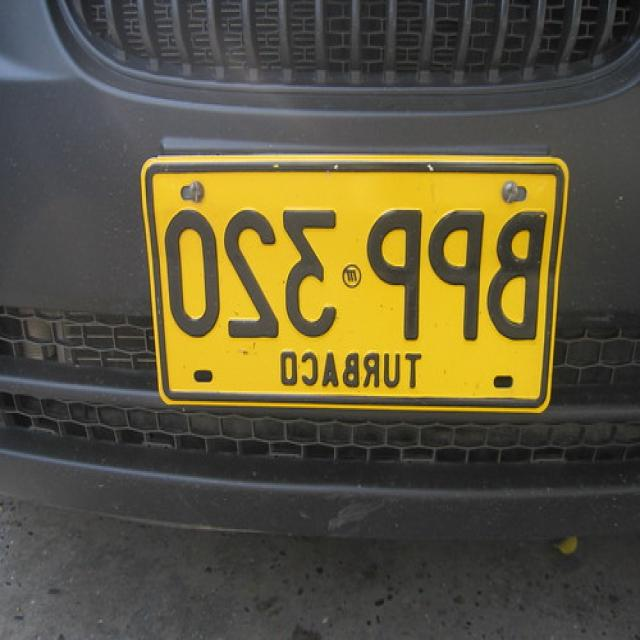placas: (150, 169, 557, 345)
